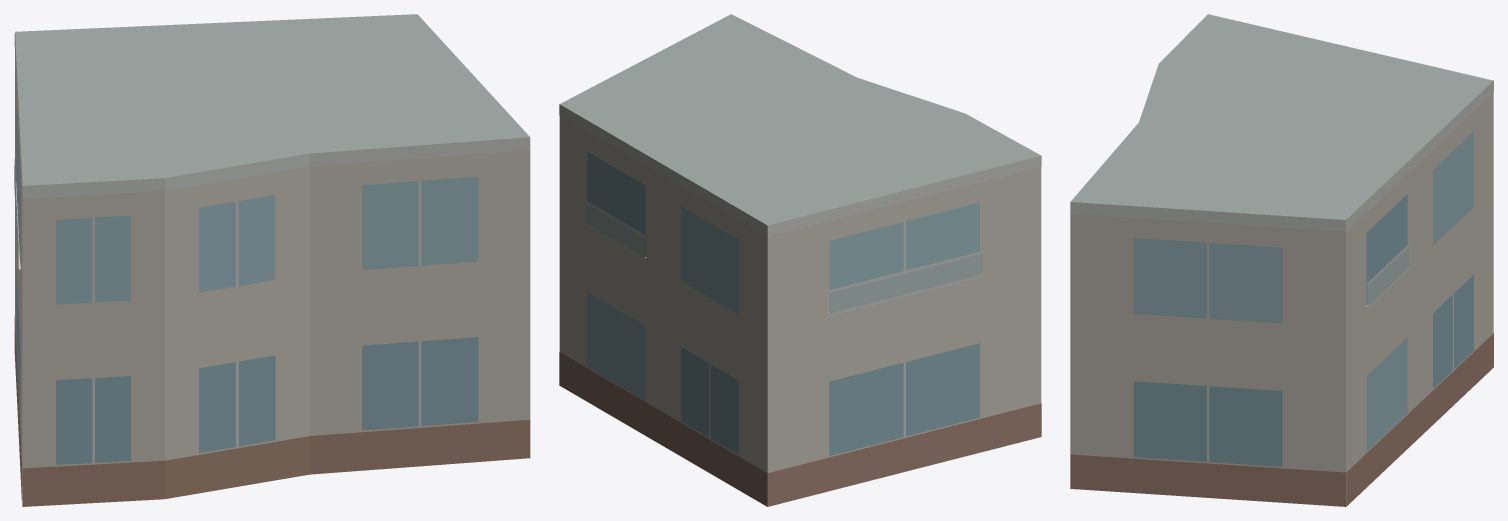
File: survey-upis-32943026.glb
3 views of the same model, side by side, from view 1: azimuth 30°, elevation 25°; view 2: azimuth 150°, elevation 25°; view 3: azimuth 270°, elevation 25° (orthographic). The views are drawn at different scales.
Visible parts, largest first — view 1: survey-upis-32943026.tmp; view 2: survey-upis-32943026.tmp; view 3: survey-upis-32943026.tmp.
Part boxes in pixels (x1=…): survey-upis-32943026.tmp: x1=14, y1=14, x2=530, y2=506; survey-upis-32943026.tmp: x1=559, y1=14, x2=1041, y2=506; survey-upis-32943026.tmp: x1=1070, y1=14, x2=1493, y2=506.
Bounding box in the file's own units: 9.41 × 6.1 × 8.17.
